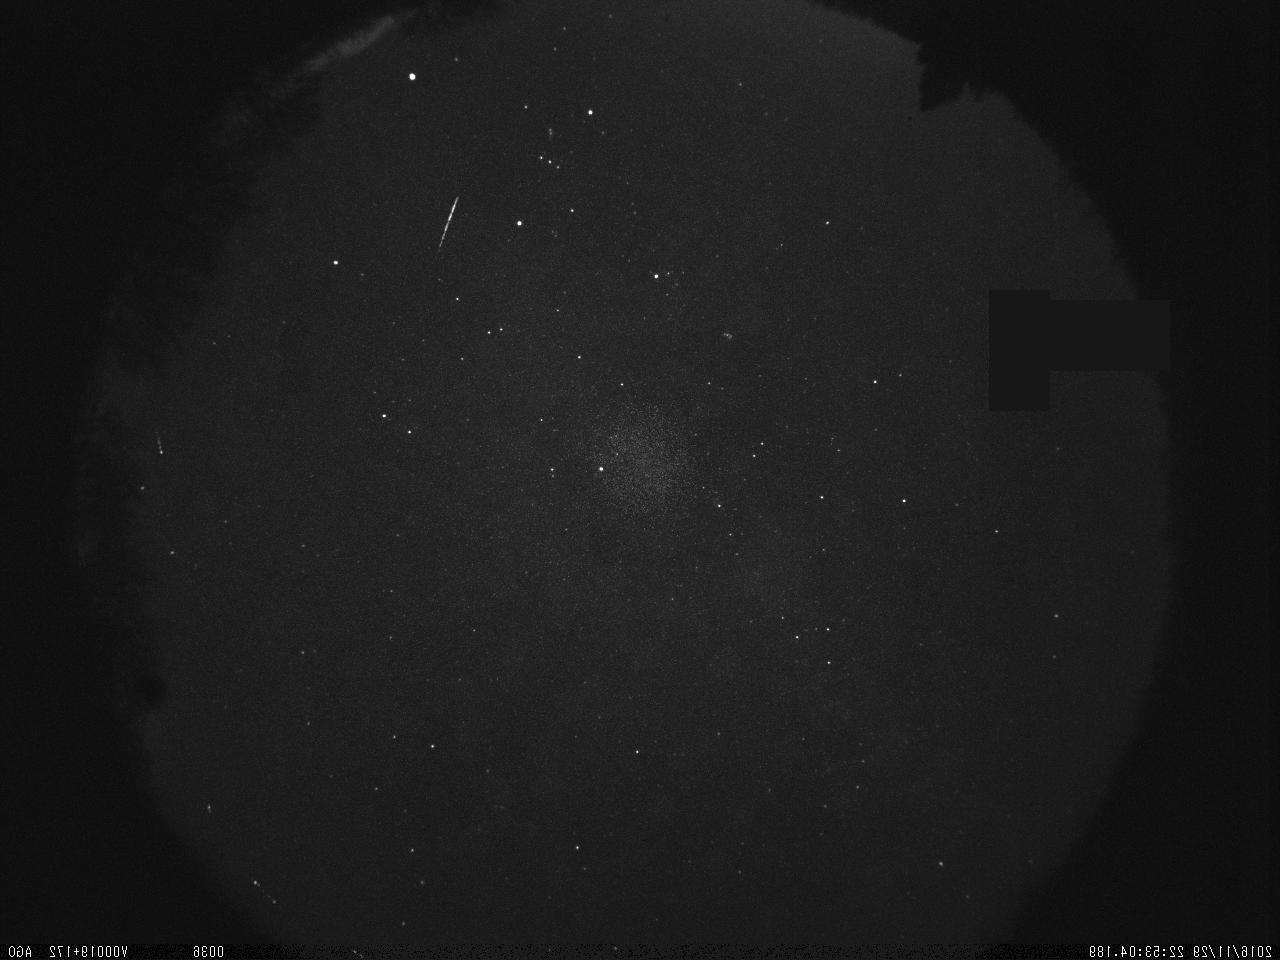meteor: (423, 184, 473, 269)
